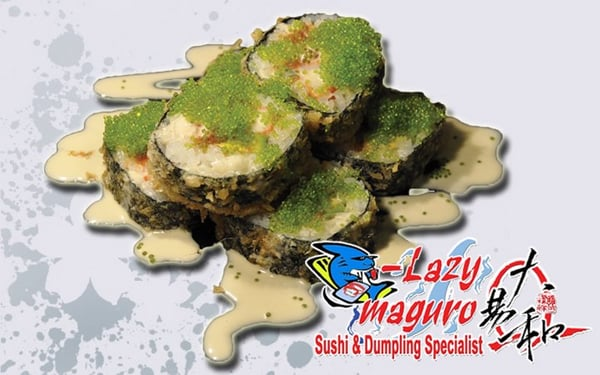curry: (266, 163, 376, 242), (102, 99, 168, 156)
